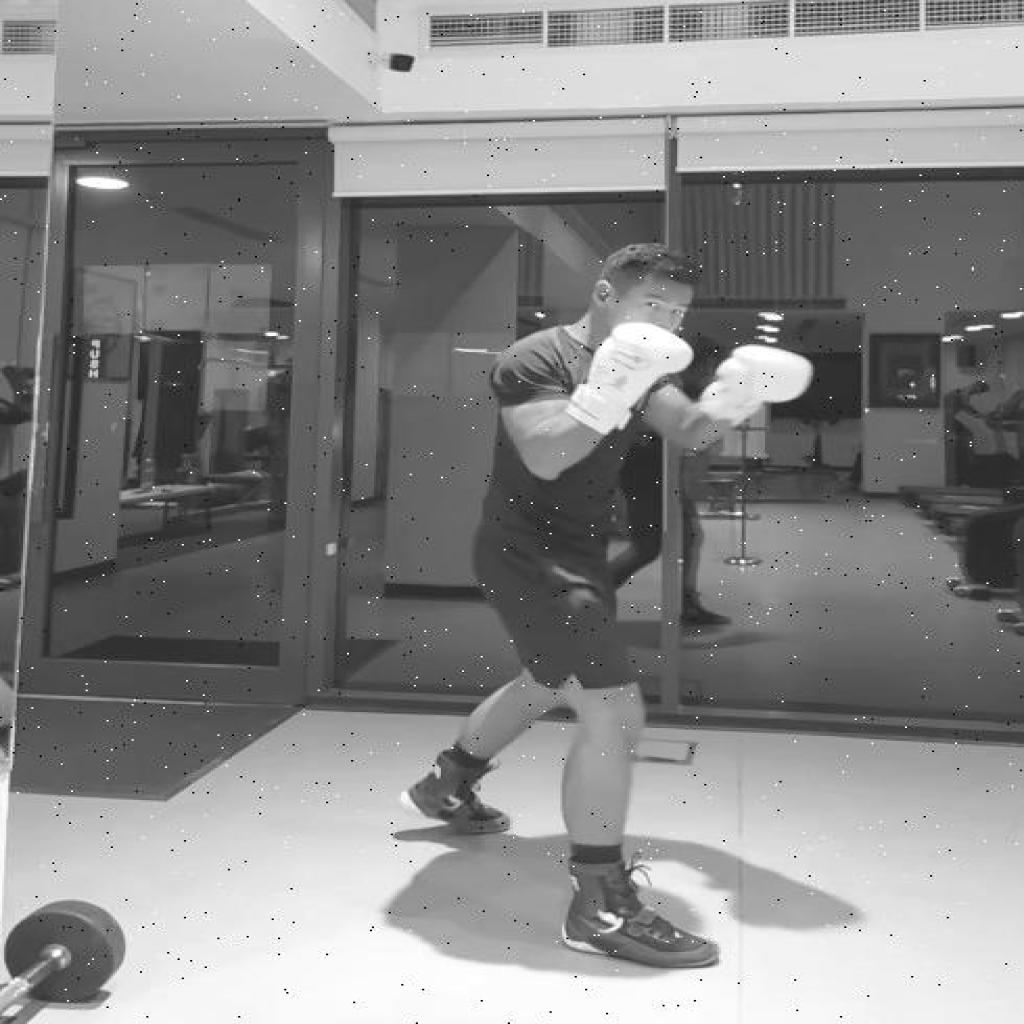no punch: (399, 246, 817, 978)
